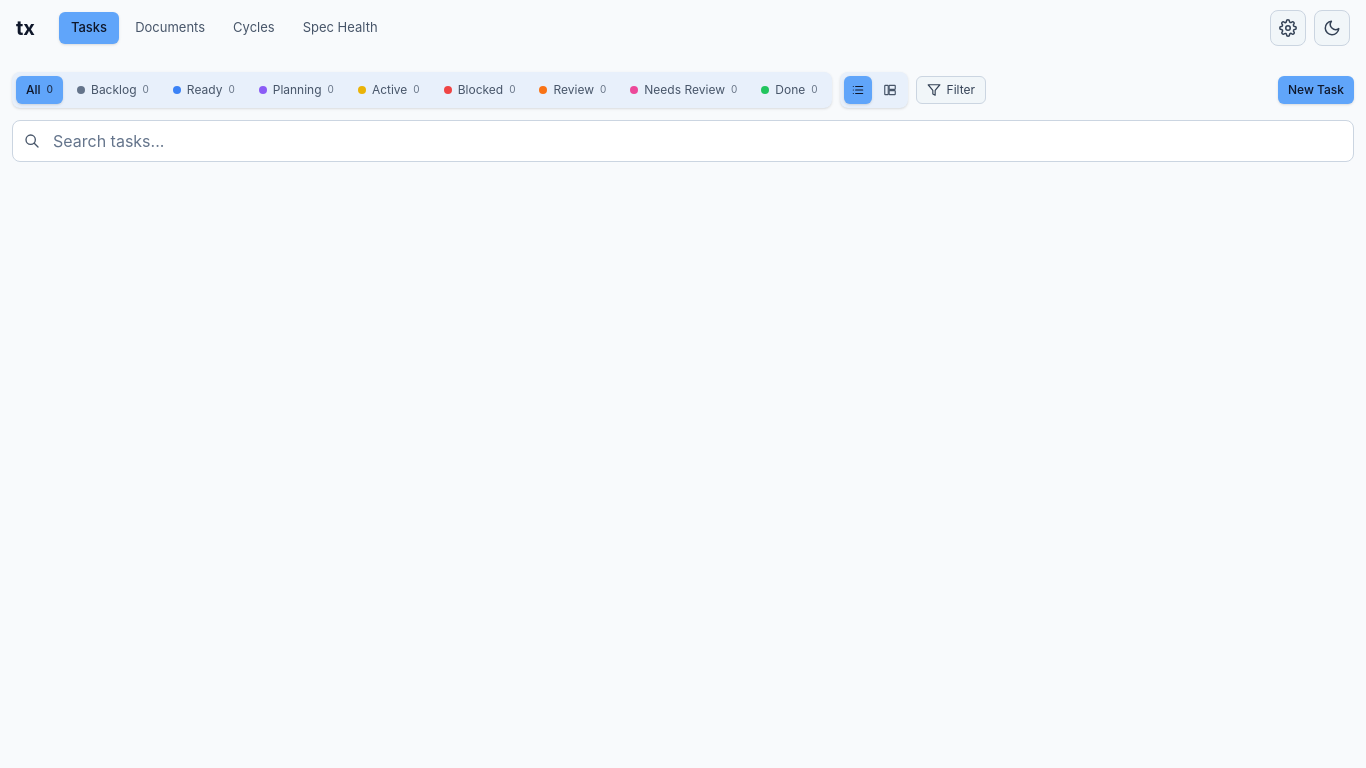
Keyboard shortcuts › CMD+A selects all loaded items on Tasks tab › selects tasks from first page
The width and height of the screenshot is (1366, 768).
Note: Switch to Tasks tab
Click the button "Tasks". click: (89, 28)
box: [59,12,119,44]
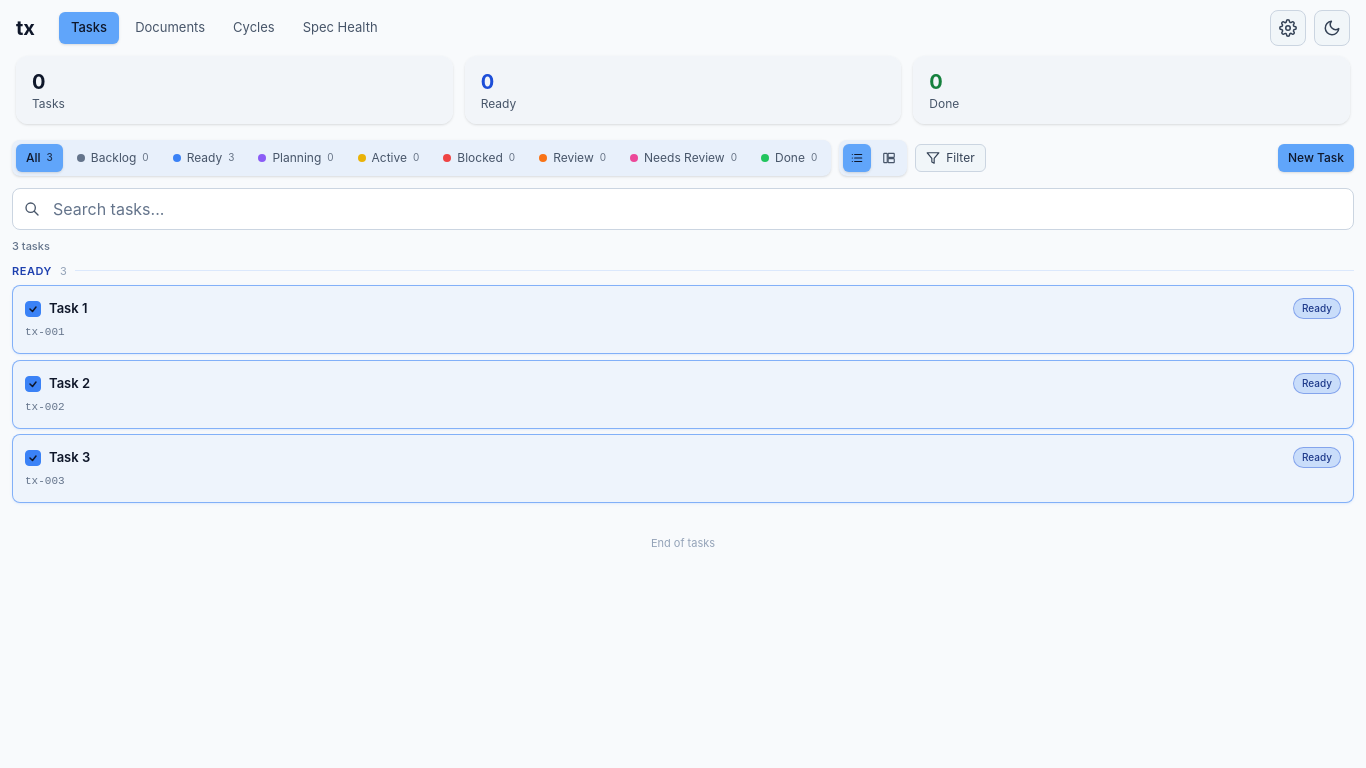
expect the heading "Task 1" is shown: met, box [49,299,87,318]
